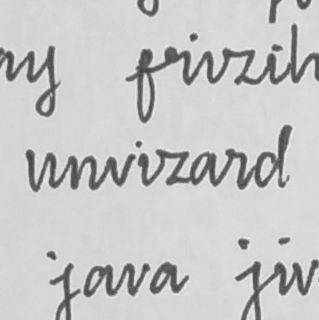a: (188, 148, 219, 188)
d: (252, 123, 294, 191)
i: (136, 139, 153, 189)
n: (66, 152, 100, 193)
r: (221, 145, 250, 191)
u: (23, 148, 59, 194)
v: (103, 150, 136, 188)
z: (154, 145, 191, 187)
